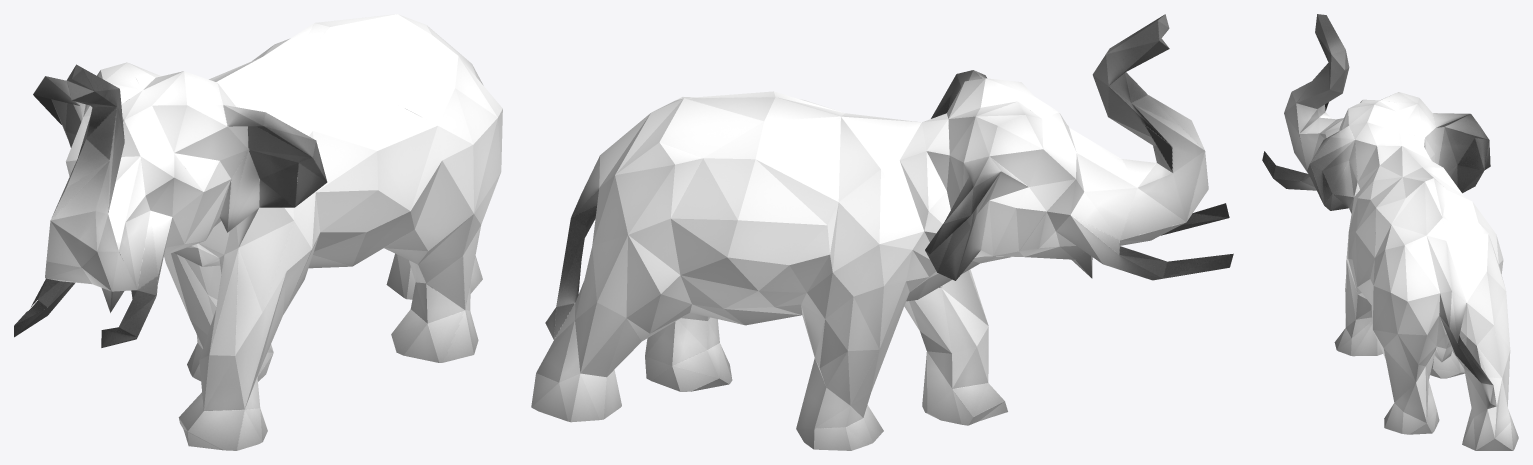
File: elephant_5d.glb
The picture shows the model from 3 angles, left to right: view 1: azimuth 30°, elevation 25°; view 2: azimuth 150°, elevation 25°; view 3: azimuth 270°, elevation 25°; orthographic projection. The views are drawn at different scales.
Visible parts, largest first — view 1: elephant Low Poly; view 2: elephant Low Poly; view 3: elephant Low Poly.
Part boxes in pixels (bbox=[...]): elephant Low Poly: bbox=[14, 14, 502, 450]; elephant Low Poly: bbox=[531, 14, 1233, 450]; elephant Low Poly: bbox=[1262, 14, 1518, 450].
Size of the model in its own units: 4.26 by 2.94 by 2.48.
Materials: 1 (1 with a texture image).
